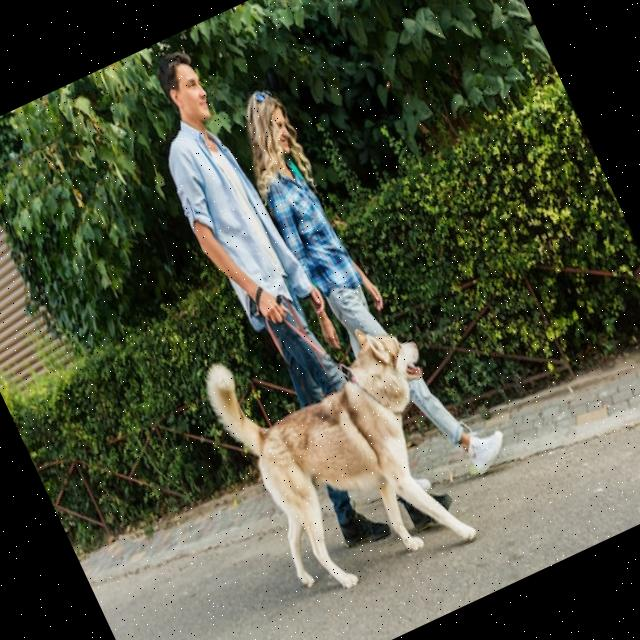Dog: (197, 284, 502, 618)
Person: (122, 25, 458, 562), (220, 58, 514, 510)
